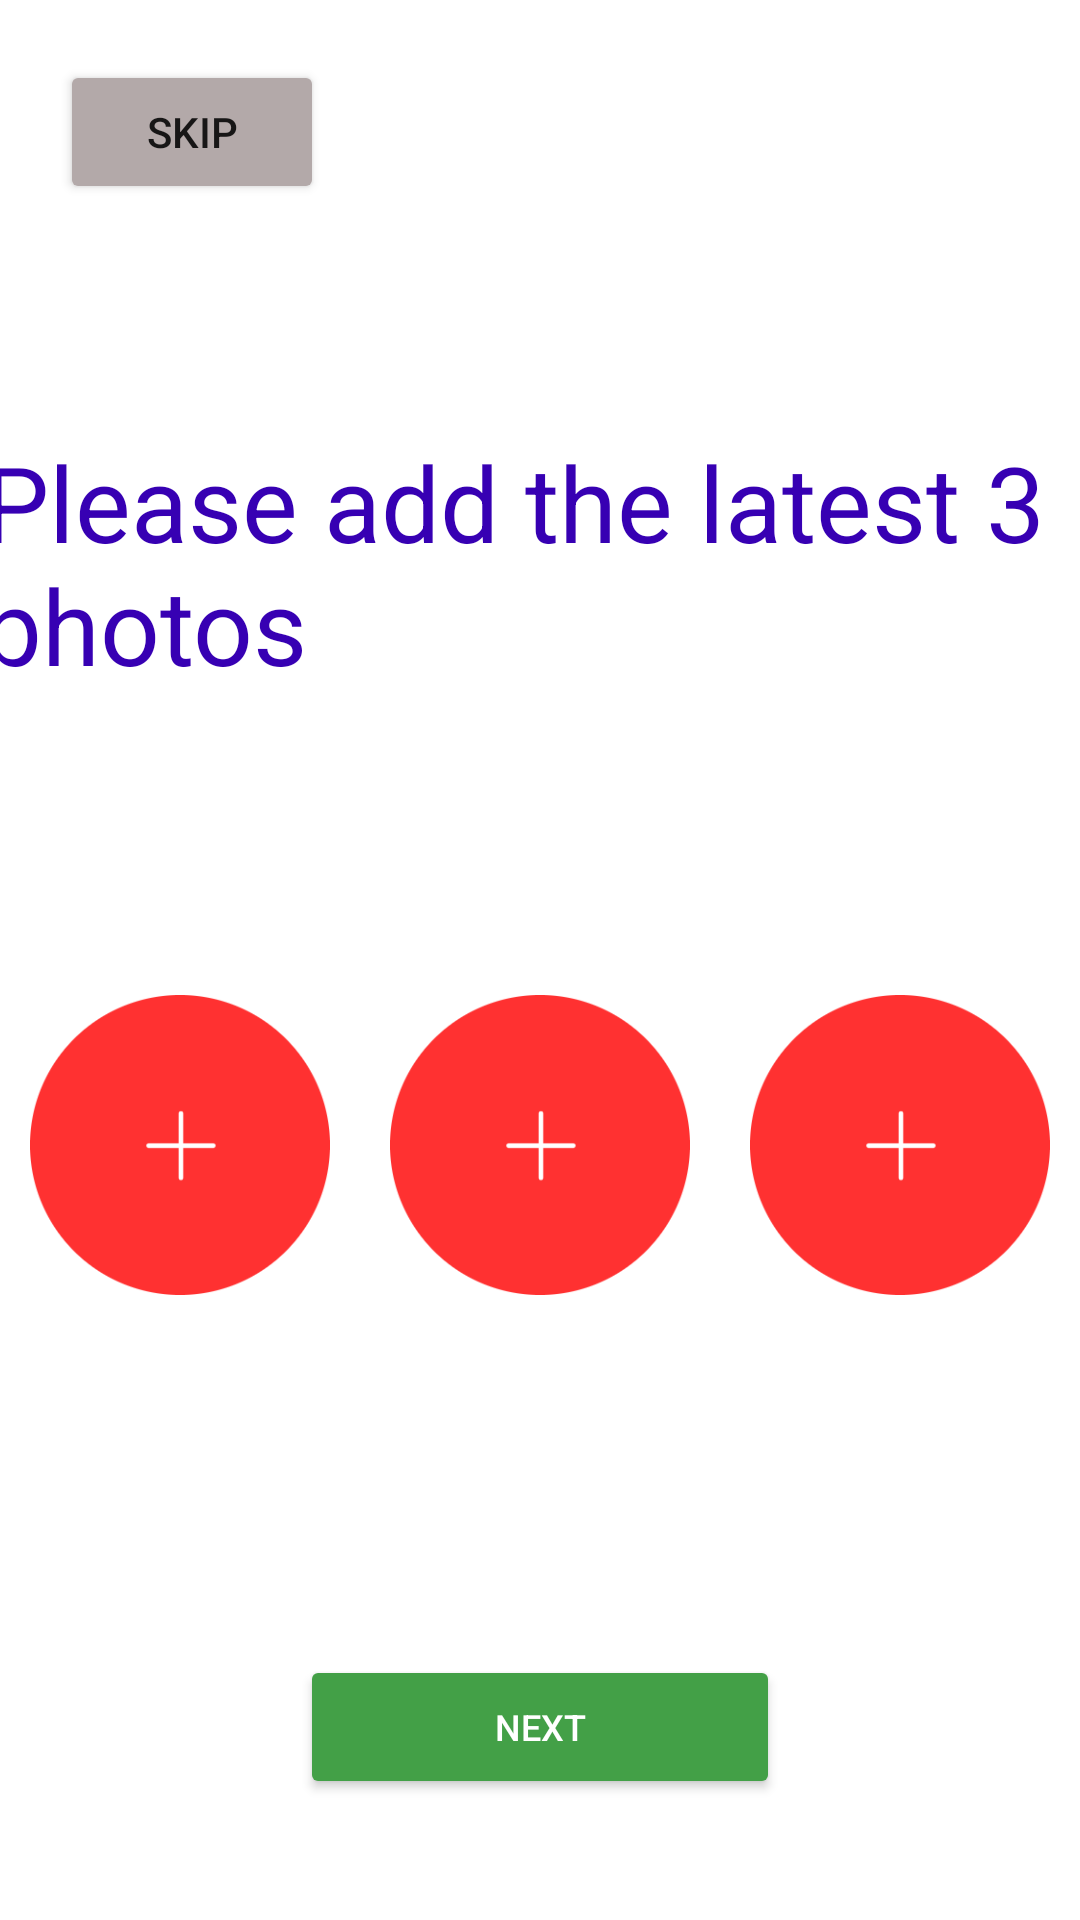

Point at icon controls on the screen. Image size 1080 × 1920, points as [x,y].
pic upload: [180,1145], [540,1145], [900,1145]
